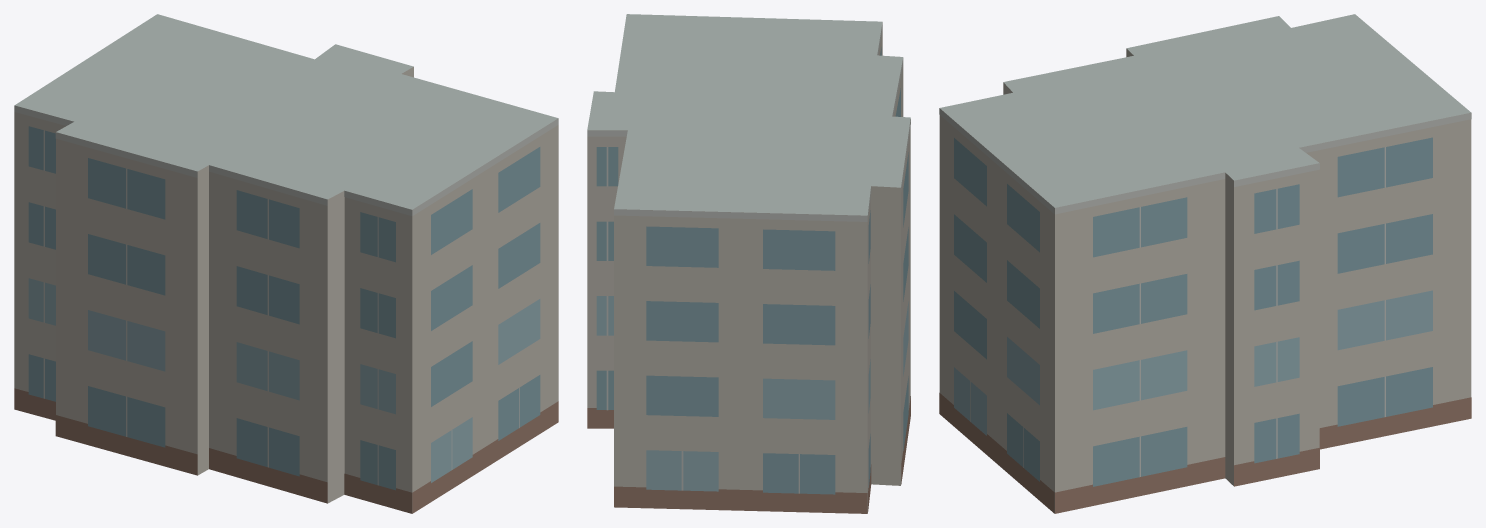
Rendered from survey-upis-33001396.glb.
The picture shows the model from 3 angles, left to right: view 1: azimuth 30°, elevation 25°; view 2: azimuth 150°, elevation 25°; view 3: azimuth 270°, elevation 25°; orthographic projection. The views are drawn at different scales.
Visible parts, largest first — view 1: survey-upis-33001396.tmp; view 2: survey-upis-33001396.tmp; view 3: survey-upis-33001396.tmp.
Boxes of the visible parts, <box> form: survey-upis-33001396.tmp: <box>14,14,558,513</box>; survey-upis-33001396.tmp: <box>587,14,910,513</box>; survey-upis-33001396.tmp: <box>939,14,1471,513</box>.
Size of the model in its own units: 15.51 by 11.4 by 17.97.
